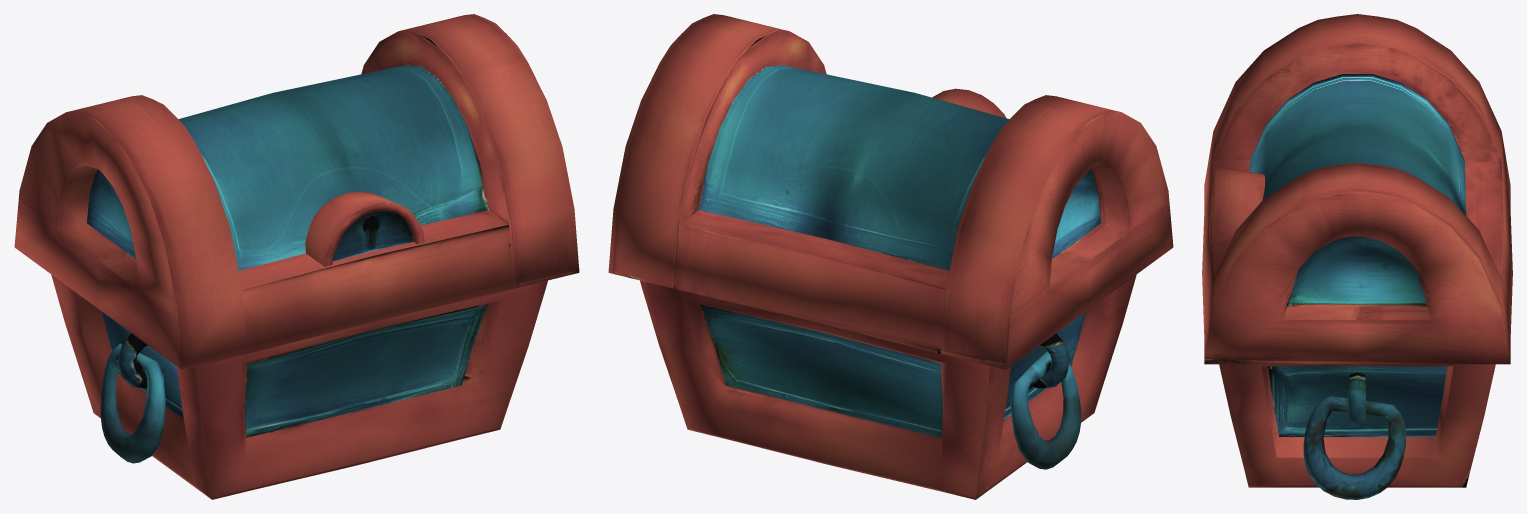
Rendered from SM_ChestGameAsset.fbx.
3 renders of one model, left to right at view 1: azimuth 30°, elevation 25°; view 2: azimuth 150°, elevation 25°; view 3: azimuth 270°, elevation 25°, orthographic. The views are drawn at different scales.
Visible parts, largest first — view 1: ChestGameAsset; view 2: ChestGameAsset; view 3: ChestGameAsset.
Boxes of the visible parts, x1,y1,x2,y2 form: ChestGameAsset: [14, 14, 579, 499]; ChestGameAsset: [608, 14, 1173, 499]; ChestGameAsset: [1202, 14, 1512, 499].
Bounding box in the file's own units: 310 × 261 × 229.
